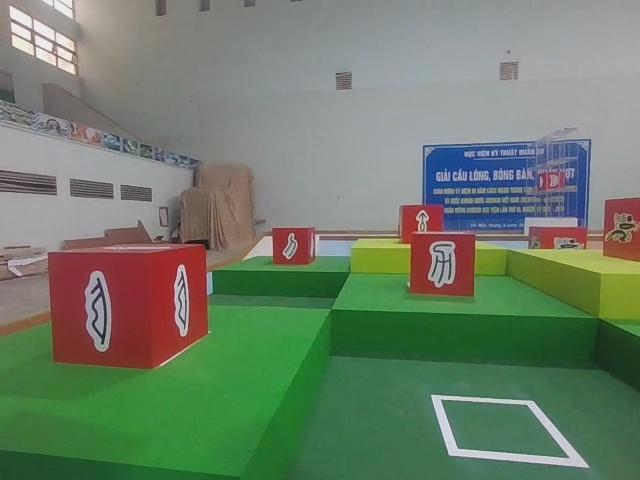R1: (599, 194, 640, 266)
R2 Fake: (406, 229, 478, 299)
R2 Real: (46, 239, 211, 372), (395, 201, 449, 248), (269, 225, 318, 267)
